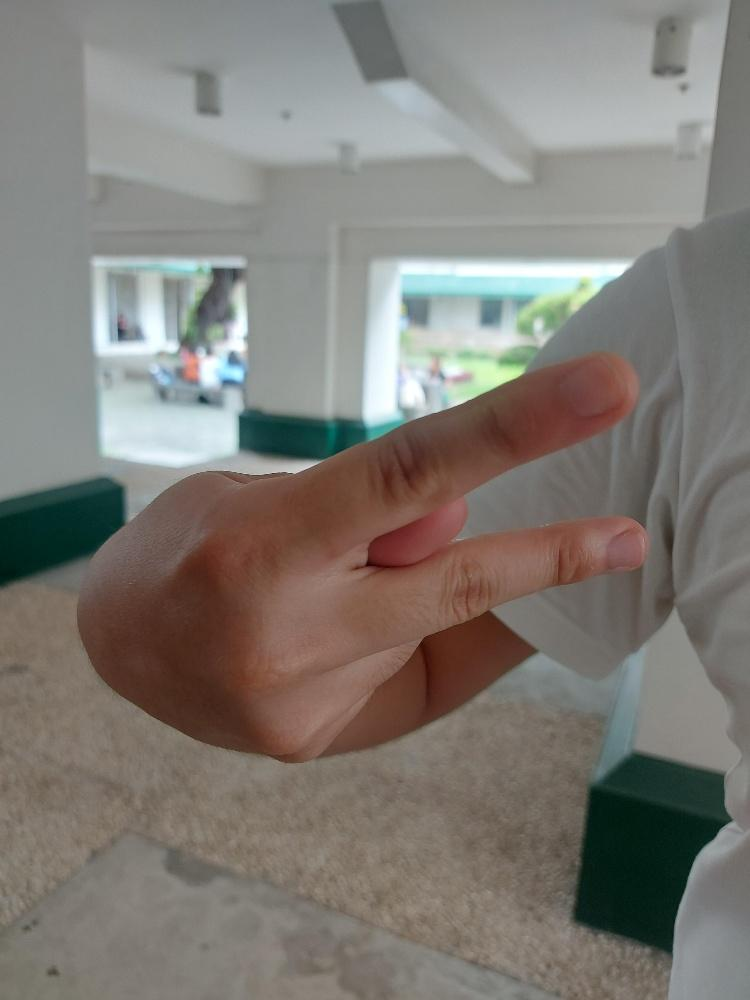k: (72, 347, 654, 764)
